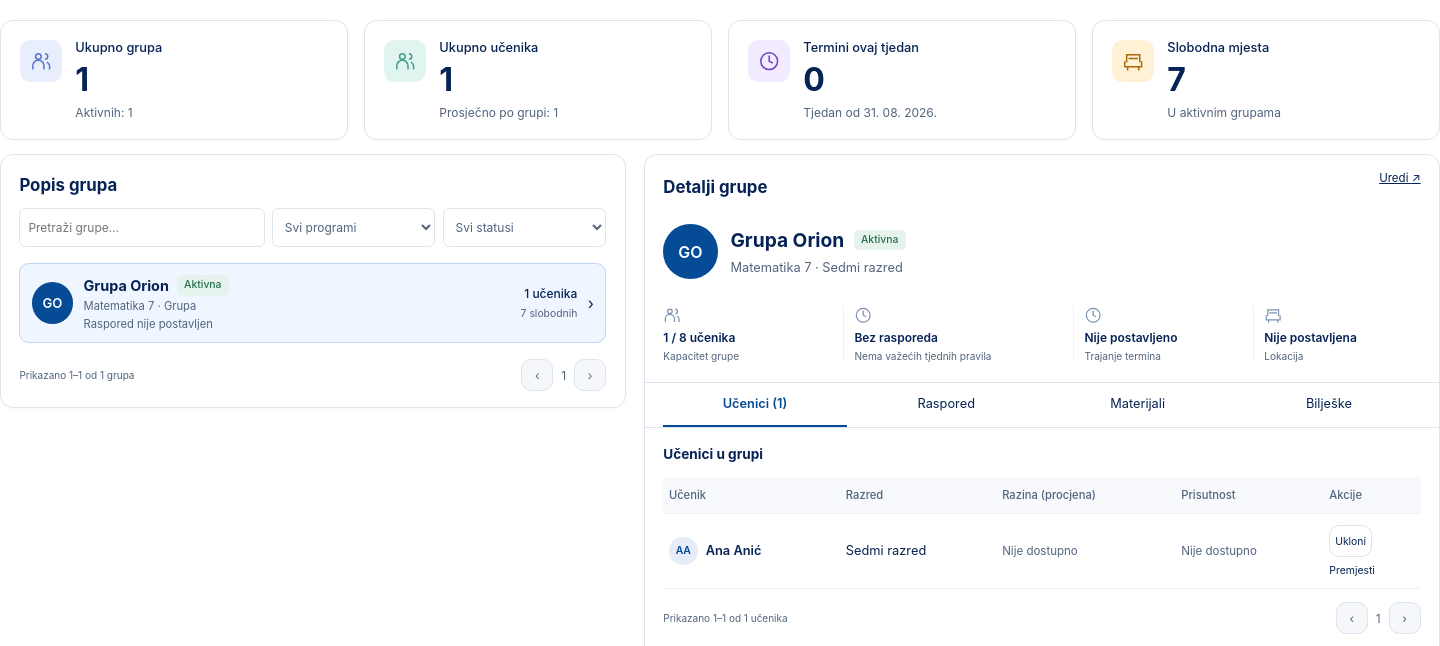
Test: group screen › confirms membership changes, sends both versions and reports conflicts
Click the button with aria-label "Ukloni Ana Anić". click: (1351, 541)
box: x1=1329 y1=525 x2=1372 y2=557
(page scrolled)
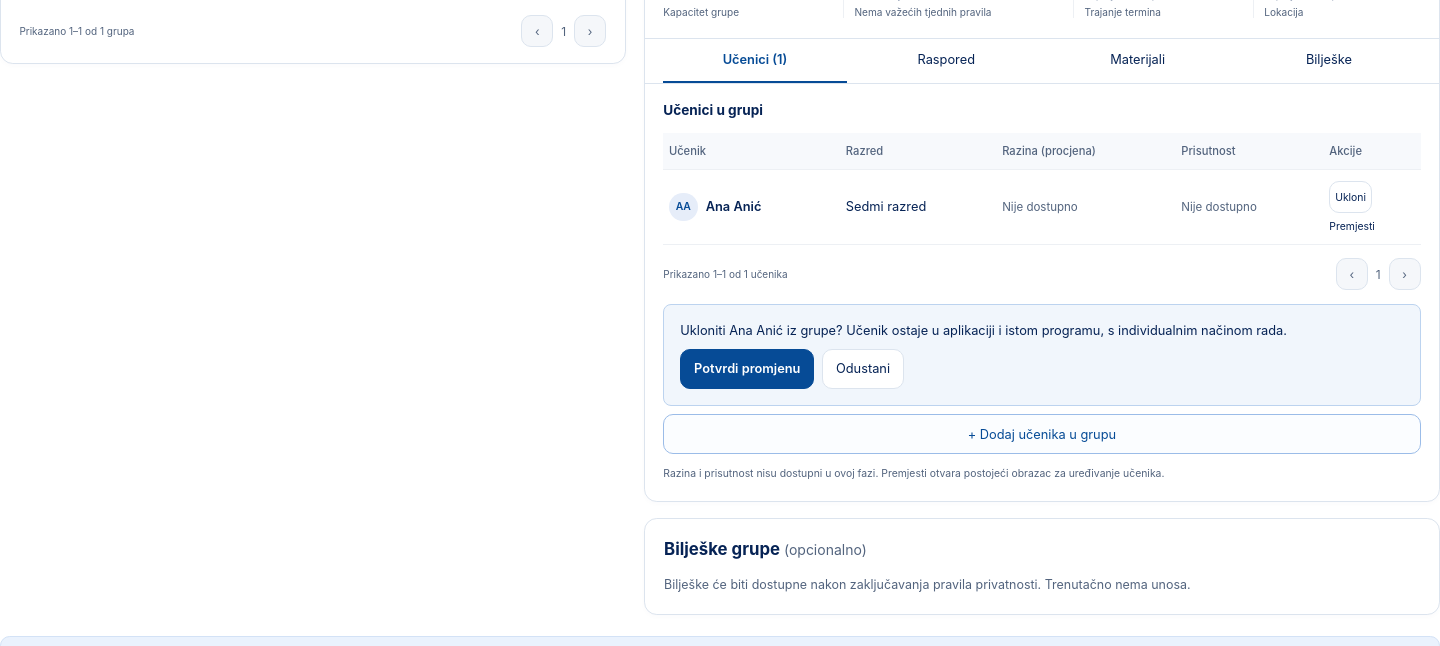
Result: the element named "Potvrda promjene članstva" shows "Učenik ostaje u aplikaciji" at x1=680 y1=323 x2=1287 y2=338
Click the button "Potvrdi promjenu". click: (747, 369)
box: x1=680 y1=349 x2=814 y2=389
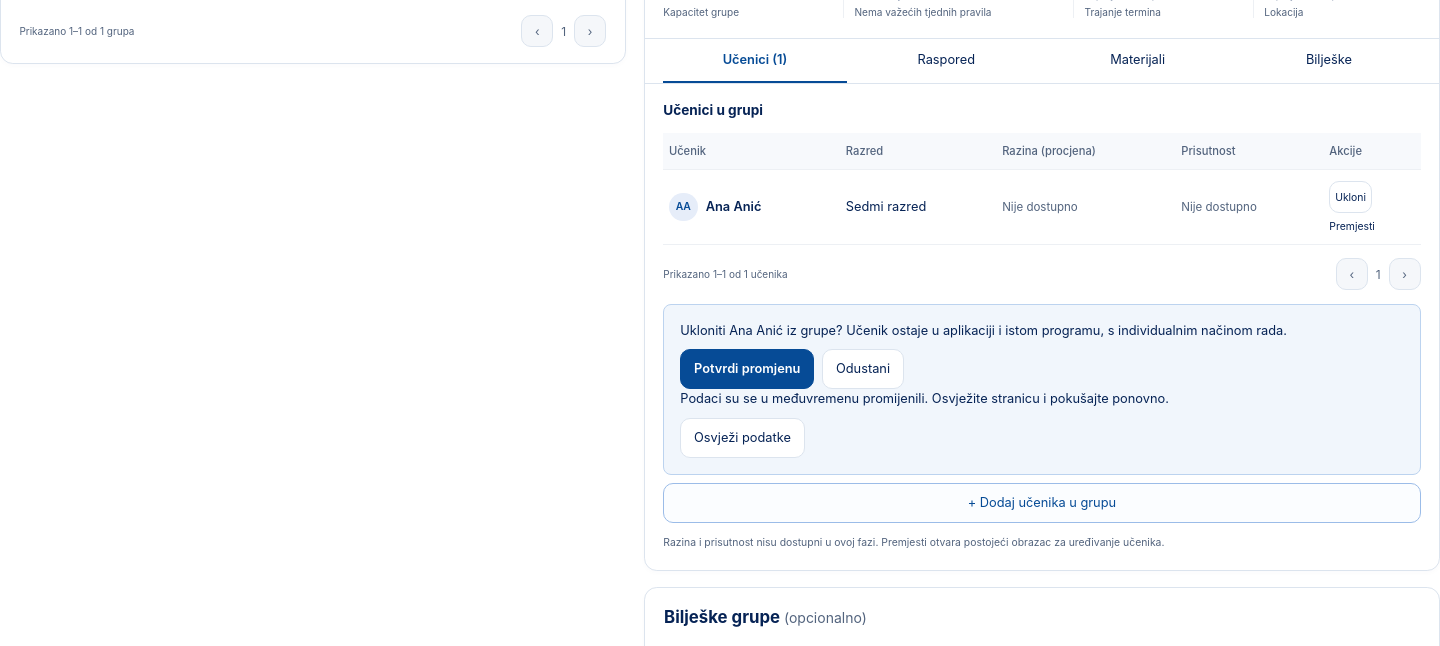
Result: the message shows "Podaci su se u međuvremenu promijenili" at x1=680 y1=391 x2=1169 y2=406
